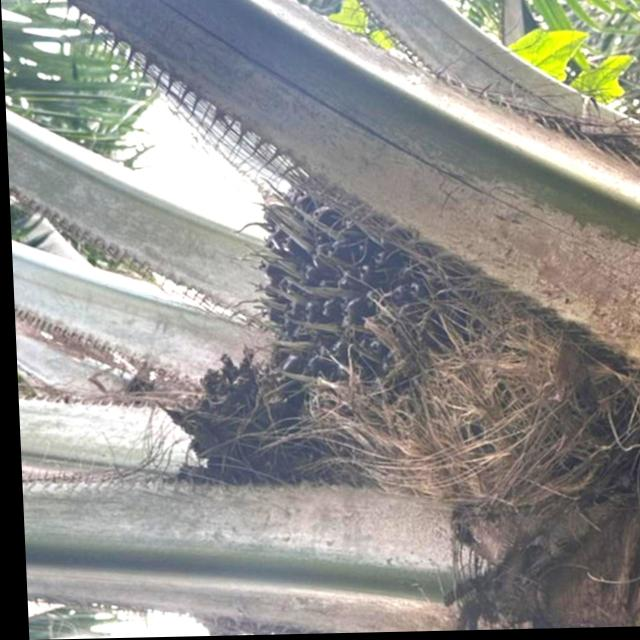almost: (216, 157, 524, 476)
